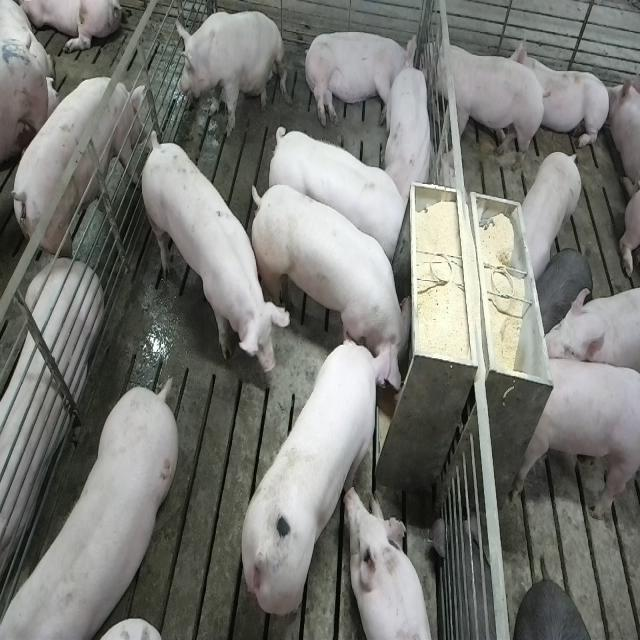Feeding: (239, 332, 391, 620), (252, 178, 419, 390)
Lateral_lying: (302, 29, 419, 129)
Sitting: (174, 7, 286, 137)
Standing: (0, 382, 176, 640), (136, 131, 283, 391), (7, 75, 142, 267), (508, 356, 638, 520), (268, 122, 411, 264), (424, 30, 548, 170), (541, 284, 640, 377), (516, 148, 582, 278), (532, 246, 592, 334)
Sternal_lying: (0, 260, 101, 602), (346, 488, 434, 640), (515, 35, 612, 156), (382, 50, 436, 199)
